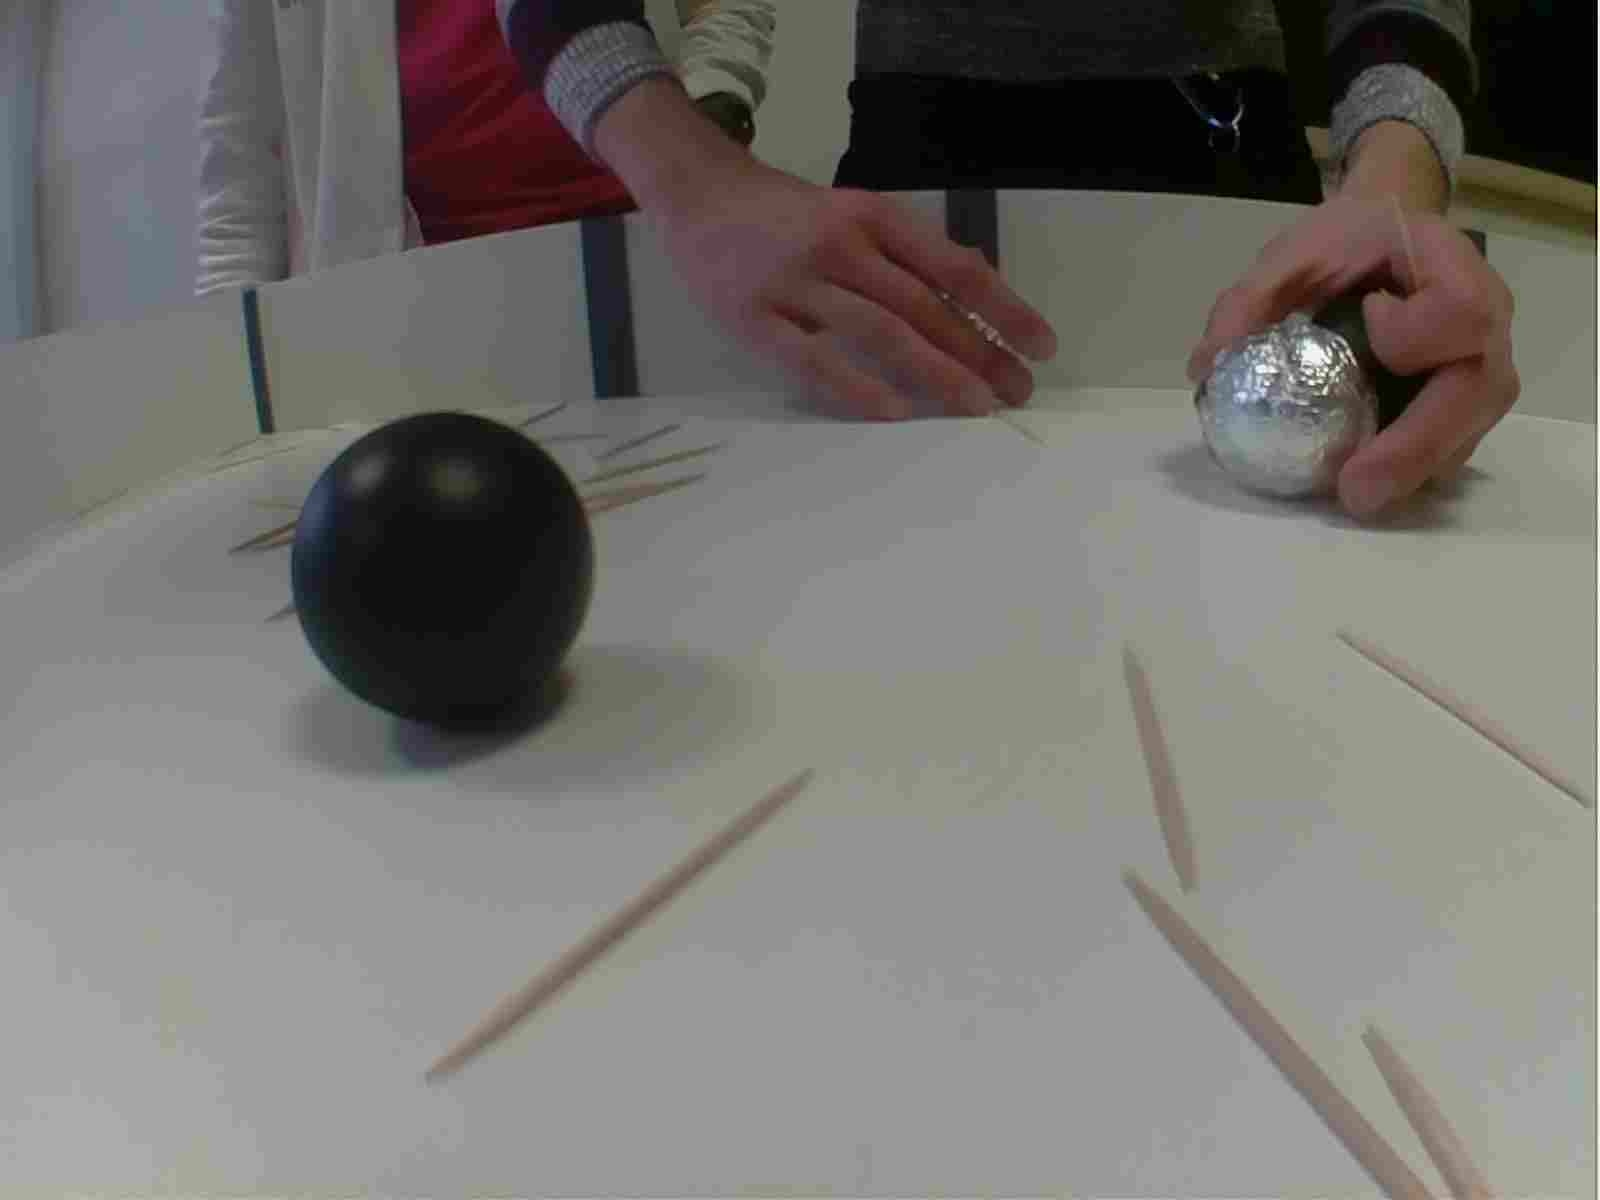bianca: (1193, 319, 1374, 511)
nera: (283, 415, 593, 741)
